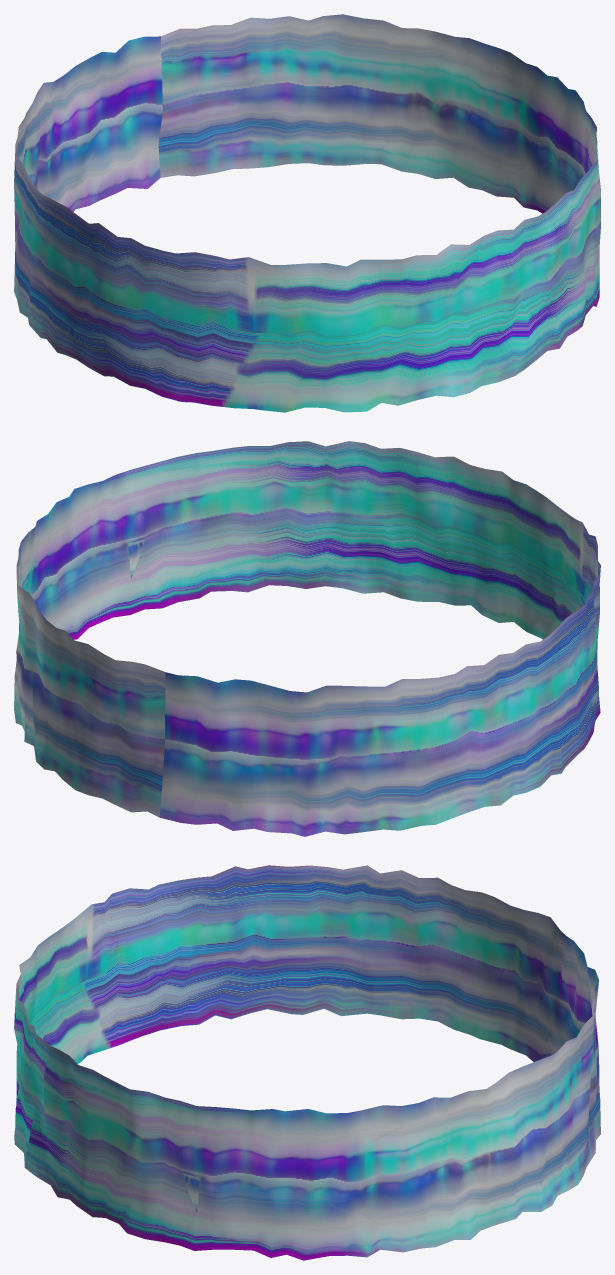
File: aurora.fbx
3 renders of one model, top to bottom at view 1: azimuth 30°, elevation 25°; view 2: azimuth 150°, elevation 25°; view 3: azimuth 270°, elevation 25°, orthographic.
Parts seen in each view (by area): view 1: cylinder; view 2: cylinder; view 3: cylinder.
Part boxes in pixels (box(x1,y1,x2,y2)): cylinder: box(14, 14, 600, 412); cylinder: box(14, 441, 600, 836); cylinder: box(14, 865, 600, 1260).
Bounding box in the file's own units: 52.35 × 15.18 × 52.82.
1 material, 1 textured.
